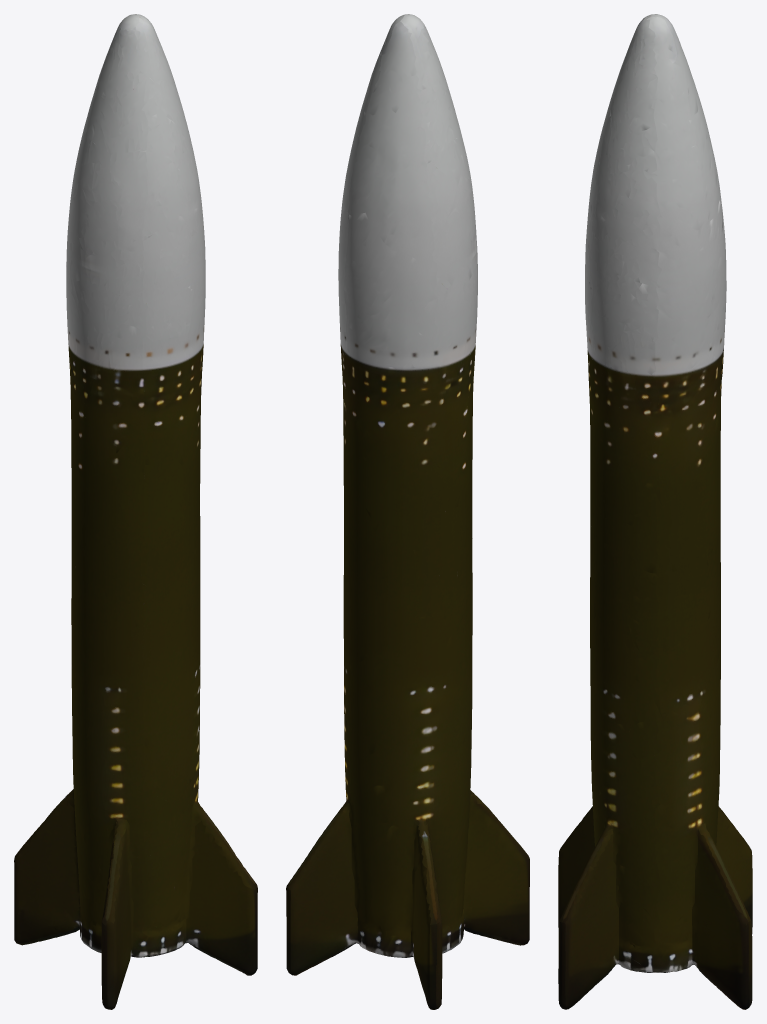
Rendered from missile.glb.
3 views of the same model, side by side, from view 1: azimuth 30°, elevation 25°; view 2: azimuth 150°, elevation 25°; view 3: azimuth 270°, elevation 25° (orthographic).
Parts seen in each view (by area): view 1: textured_mesh; view 2: textured_mesh; view 3: textured_mesh.
Boxes of the visible parts, box(x1,y1,x2,y2) form: textured_mesh: box(14, 14, 257, 1009); textured_mesh: box(286, 14, 529, 1009); textured_mesh: box(558, 14, 752, 1009).
Bounding box in the file's own units: 0.3431 × 1.99 × 0.3665.
Materials: 1 (1 with a texture image).
